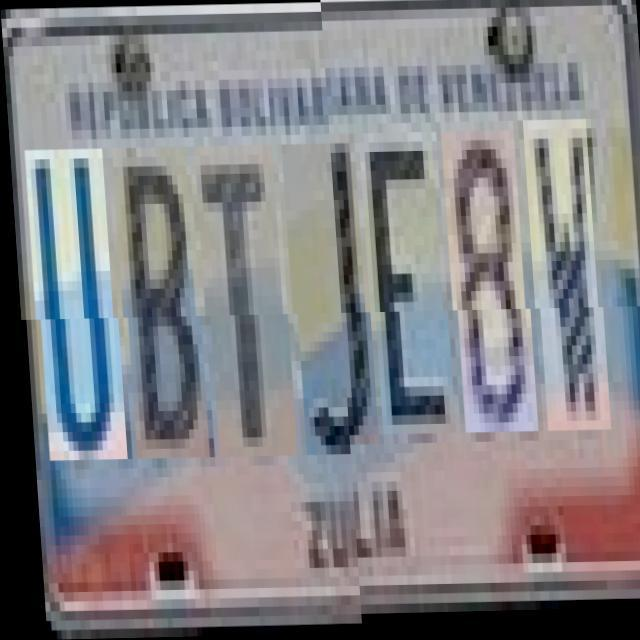8: (444, 142, 532, 444)
B: (114, 148, 204, 460)
E: (362, 143, 450, 445)
J: (284, 144, 373, 456)
T: (197, 146, 291, 458)
U: (27, 149, 121, 461)
W: (526, 131, 606, 443)
